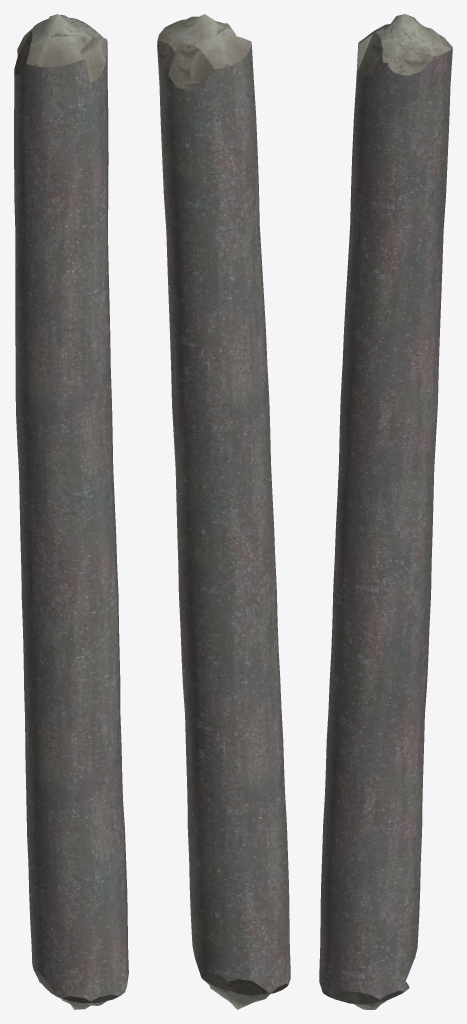
3 views of the same model, side by side, from view 1: azimuth 90°, elevation 25°; view 2: azimuth 150°, elevation 25°; view 3: azimuth 330°, elevation 25° (orthographic).
Parts seen in each view (by area): view 1: SM_GF_Ash_Tree_02_half_mid_LOD0; view 2: SM_GF_Ash_Tree_02_half_mid_LOD0; view 3: SM_GF_Ash_Tree_02_half_mid_LOD0.
Part boxes in pixels (x1=…): SM_GF_Ash_Tree_02_half_mid_LOD0: x1=14, y1=14, x2=128, y2=1009; SM_GF_Ash_Tree_02_half_mid_LOD0: x1=157, y1=14, x2=290, y2=1009; SM_GF_Ash_Tree_02_half_mid_LOD0: x1=319, y1=14, x2=452, y2=1009.
Bounding box in the file's own units: 0.5105 × 4.37 × 0.4618.
Materials: 1 (1 with a texture image).
